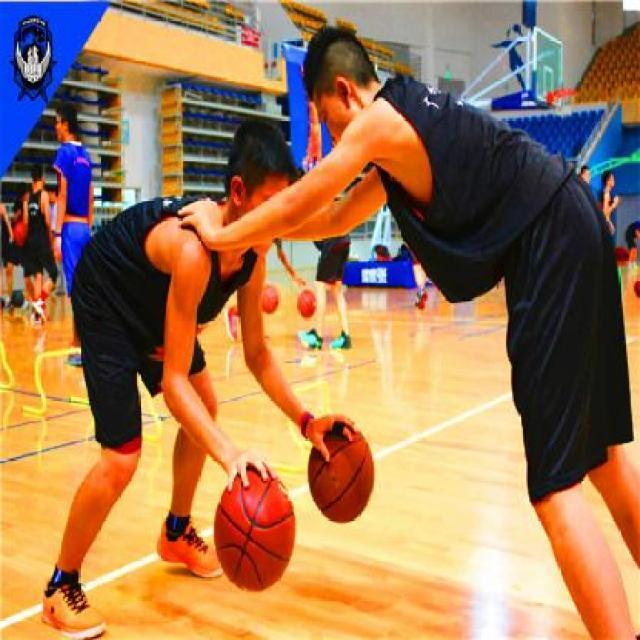basketball: (213, 466, 295, 594), (309, 424, 375, 524), (294, 288, 318, 318)
